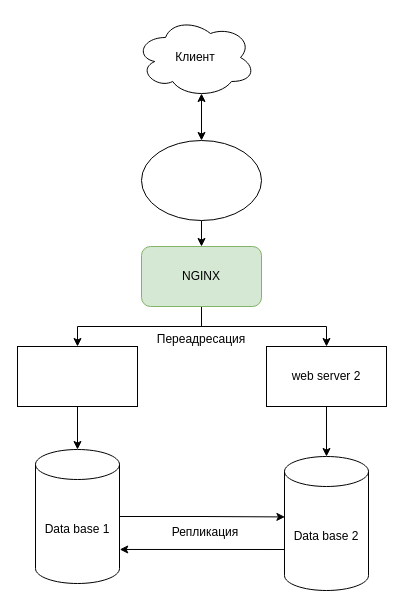
This 404x608 diagram has some shape labels left out. The shapes that lost their labels are listed below. From the top down, each one's box as (x1, y1, x2, y2) in pixels, then its label:
(140, 140, 262, 220): Virtual IP 9Sasha.com DNS NAME
(16, 346, 138, 406): web server 1
